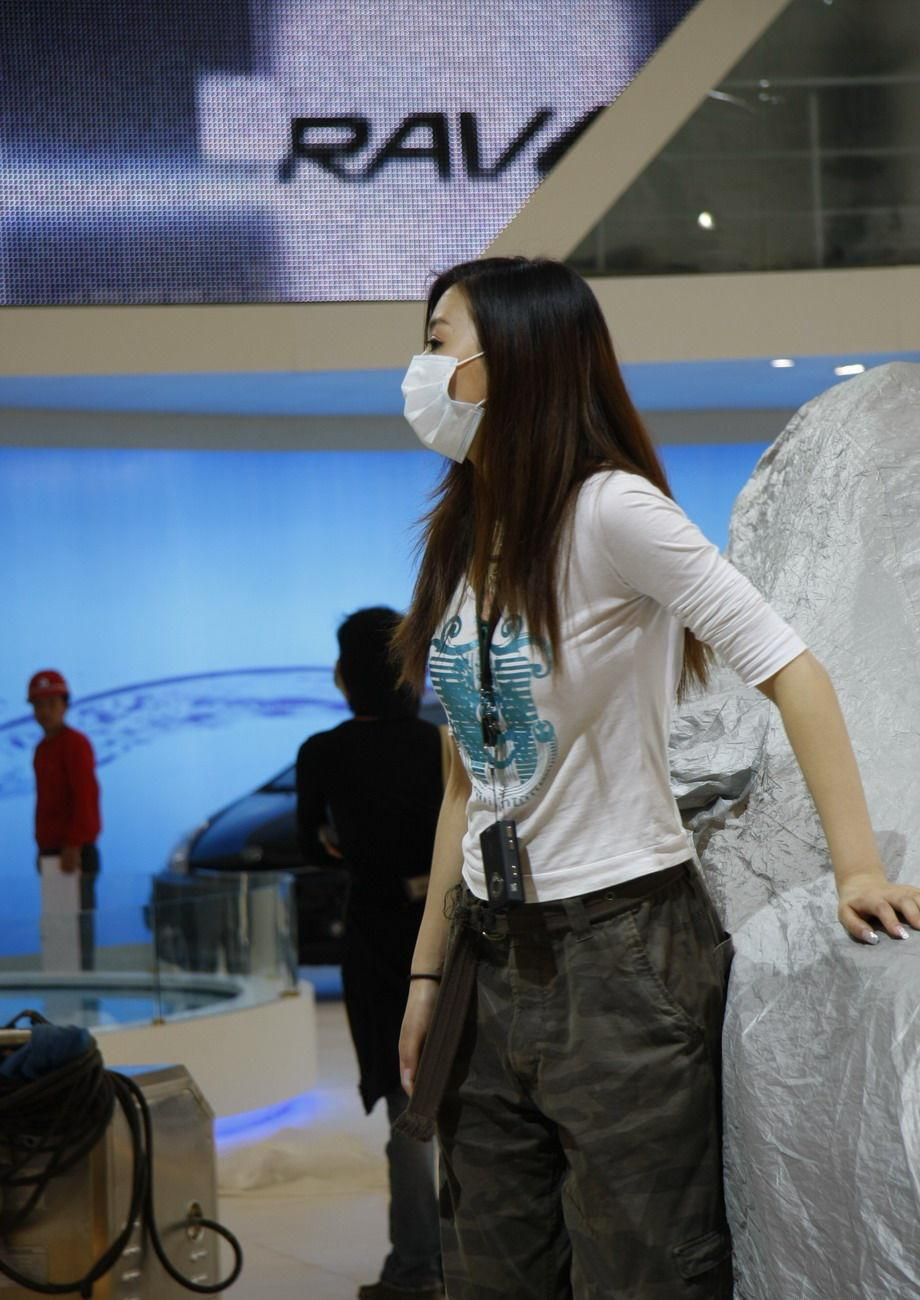NONE: (37, 701, 67, 732)
OK: (395, 325, 527, 457)
